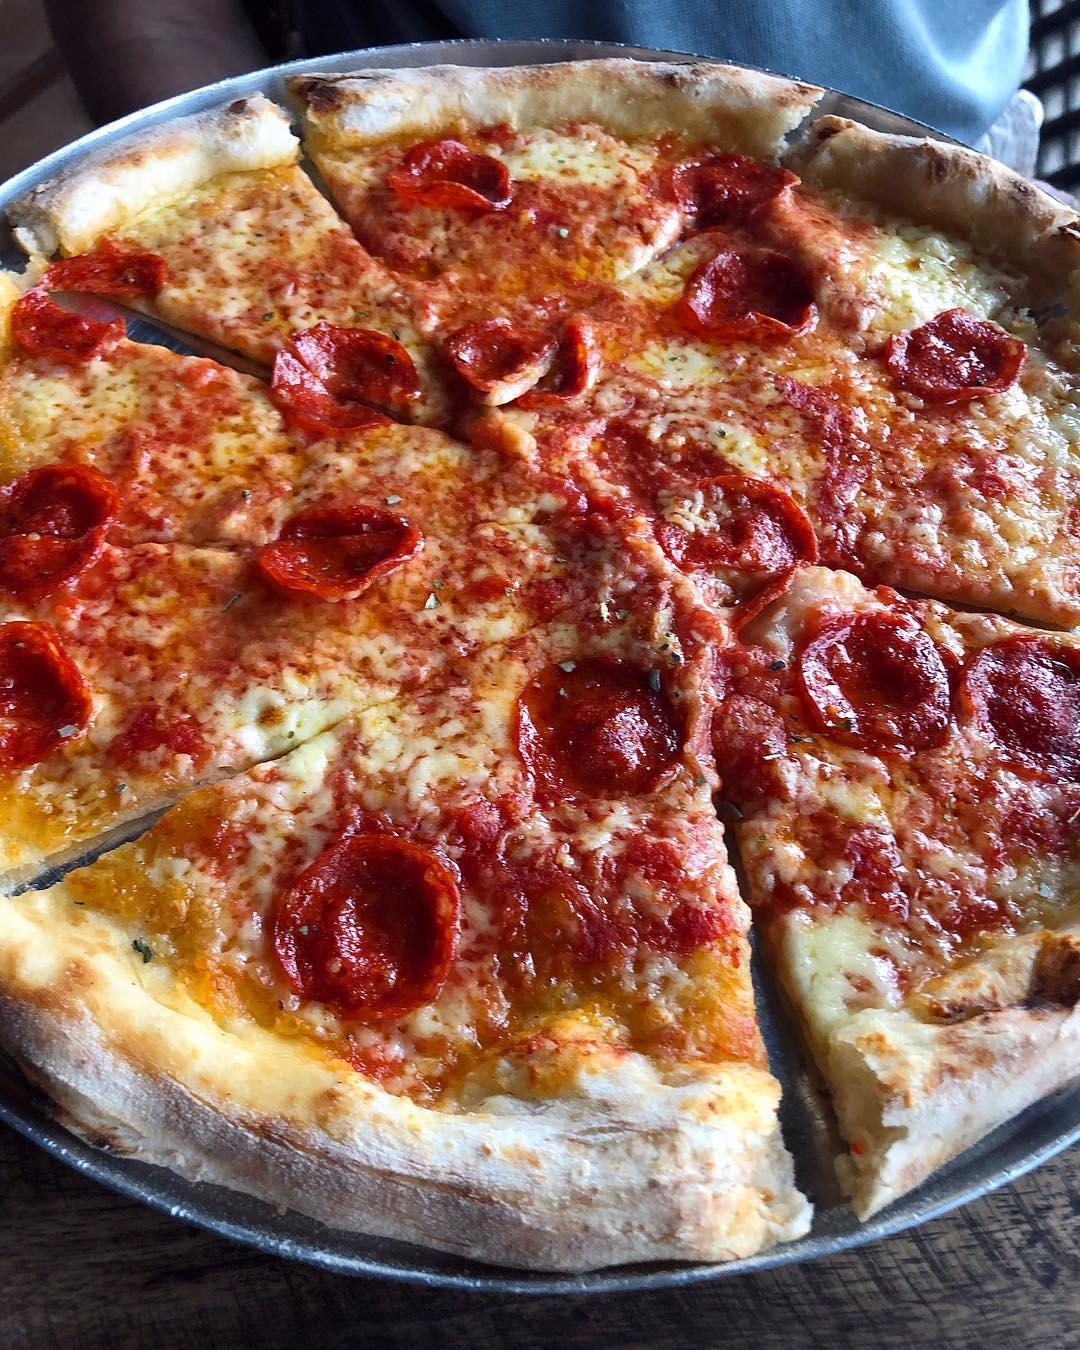Pepperoni: (281, 831, 463, 1013), (521, 658, 699, 801), (795, 606, 955, 762), (11, 231, 183, 366), (263, 326, 434, 451), (645, 478, 820, 600), (250, 486, 441, 591), (684, 241, 834, 355), (0, 457, 125, 591), (894, 306, 1041, 414), (984, 635, 1080, 788), (454, 309, 594, 404), (668, 128, 807, 222), (0, 619, 95, 755), (395, 133, 531, 212)
Pizza: (1, 51, 1080, 1273)
